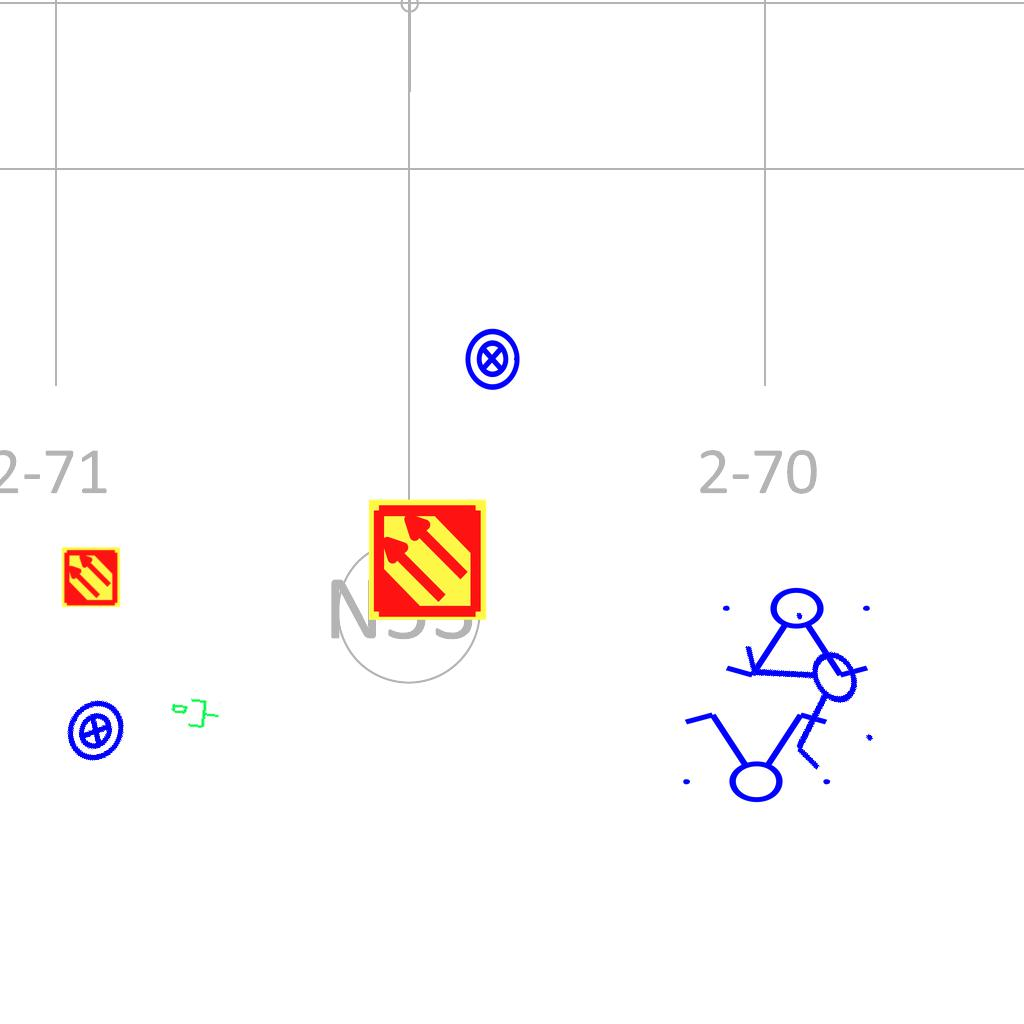ASR_Ansaugrauchmelder: (365, 497, 490, 622), (60, 546, 122, 608)
Datenanschluss_einfach: (168, 694, 222, 734)
Serienschalter: (729, 594, 897, 788), (714, 586, 882, 682), (671, 708, 839, 804)
Taster_beleuchtet: (51, 686, 141, 776), (459, 326, 525, 392)
